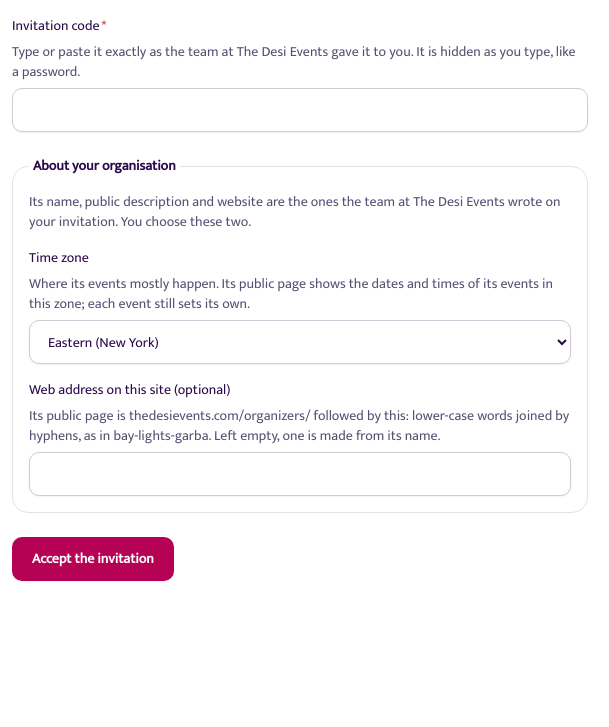
Test: the accept form › repeats the API’s sentence for a taken web address, and says how long to wait after a limit
Step 1. Type "rangoli-collective" into the field labelled "Web address on this site (optional)" → (300, 474), box top-left (29, 452), bottom-right (571, 496)
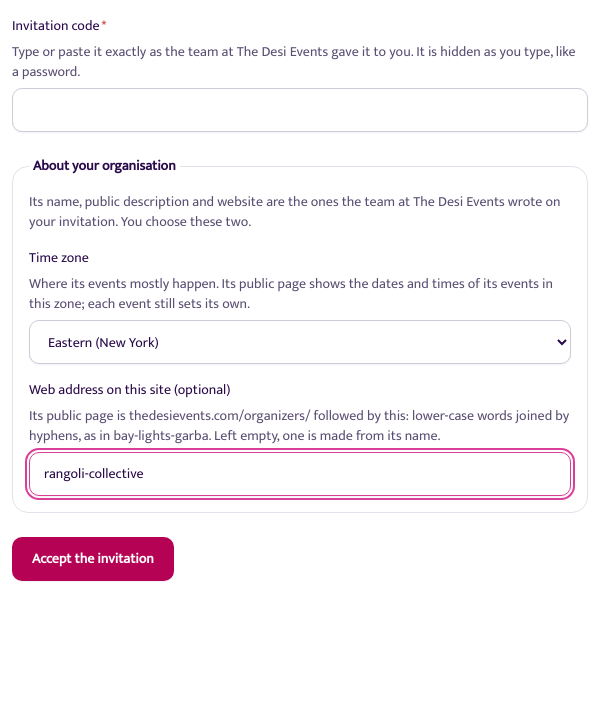
Step 2. Type "Pq7_wE0-rT3yU6iO9pA2sD5fG8hJ1kL4zX7cV0bN3m" into the password field labelled "Invitation code*" → (300, 110), box top-left (12, 88), bottom-right (588, 132)
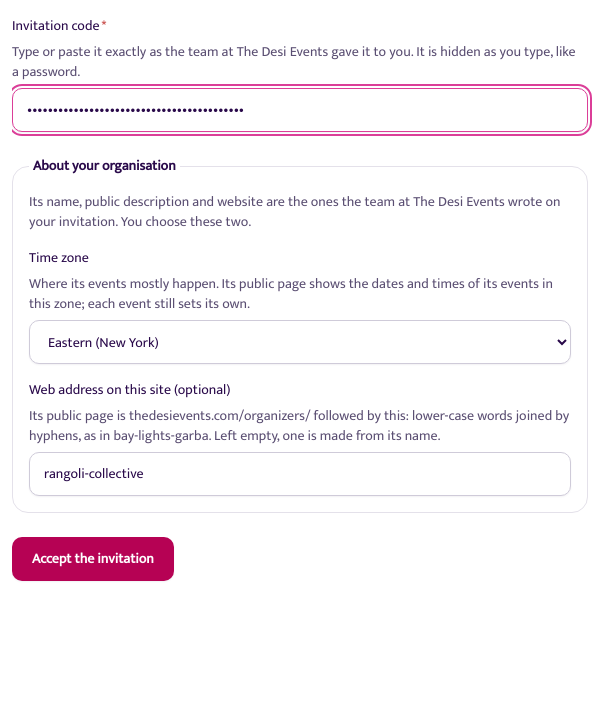
Step 3. Click the button "Accept the invitation" → (93, 559), box top-left (12, 537), bottom-right (174, 581)
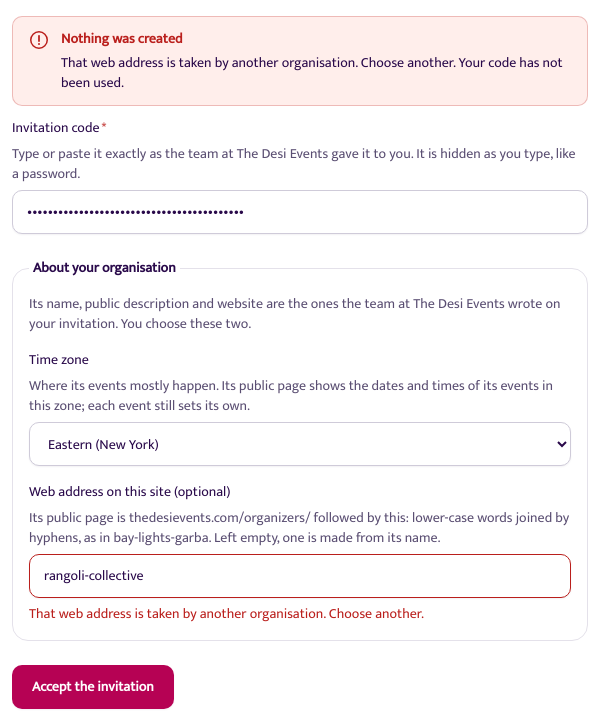
Result: the field labelled "Web address on this site (optional)" is marked as invalid at top-left (29, 554), bottom-right (571, 598)
Step 4. Click the button "Accept the invitation" → (93, 687), box top-left (12, 665), bottom-right (174, 709)
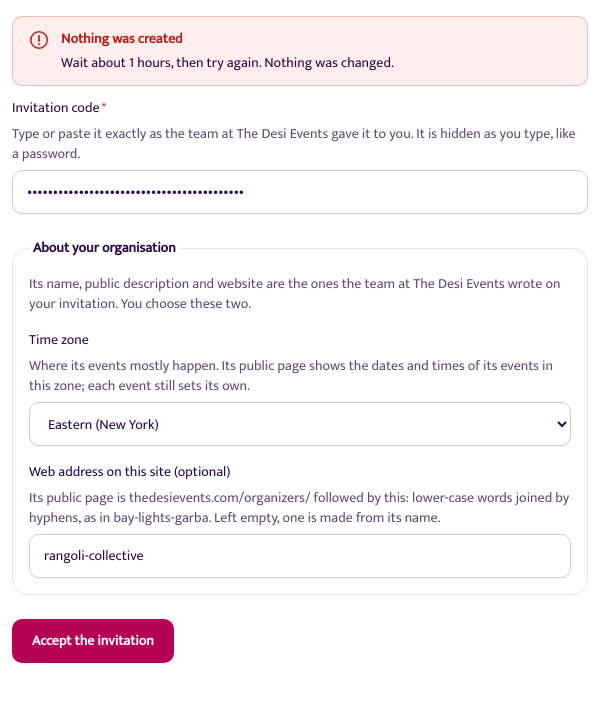
Result: the text "Wait about 1 hours, then try again. Nothing was changed." is shown at top-left (61, 51), bottom-right (394, 74)
